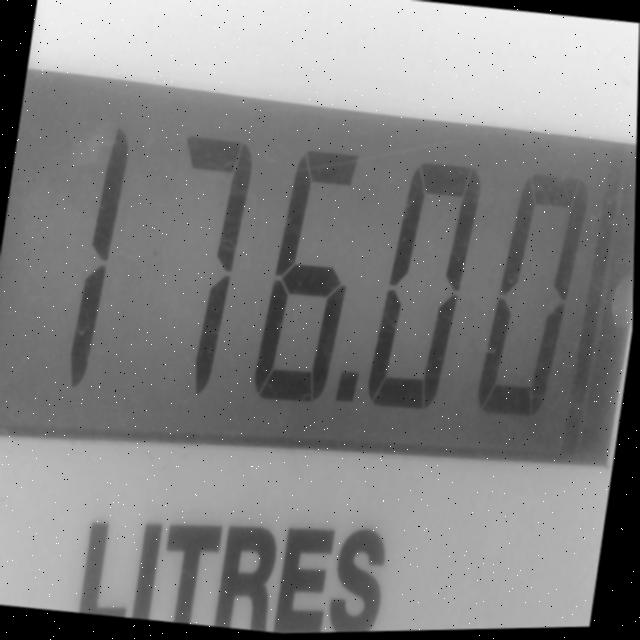.: (358, 143, 491, 413), (319, 345, 369, 427)
1: (36, 104, 156, 411)
6: (234, 132, 371, 426)
7: (146, 122, 271, 416)
